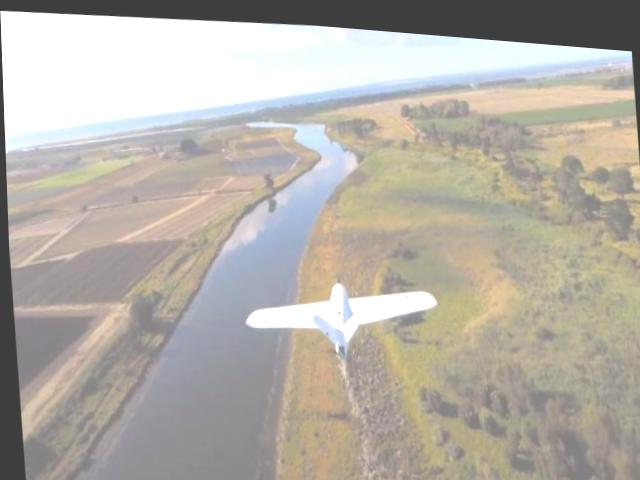iha: (236, 263, 441, 361)
